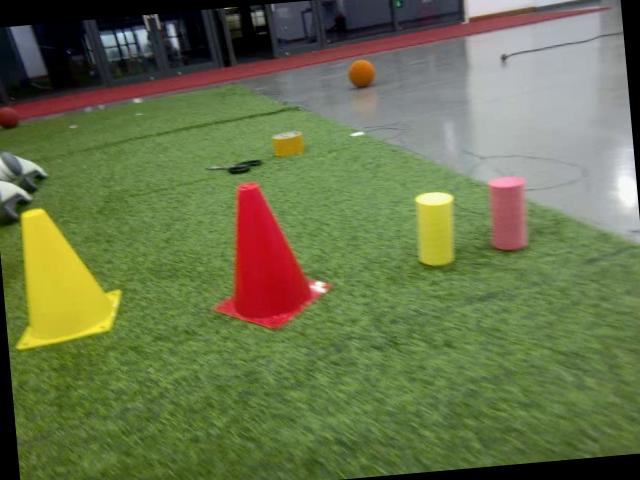orange_ball: (344, 59, 376, 90)
red_ball: (0, 103, 21, 131)
red_barrel: (198, 174, 334, 338)
red_cylinder: (484, 173, 532, 254)
yellow_barrel: (1, 198, 128, 352)
yellow_cylinder: (410, 188, 460, 270)
